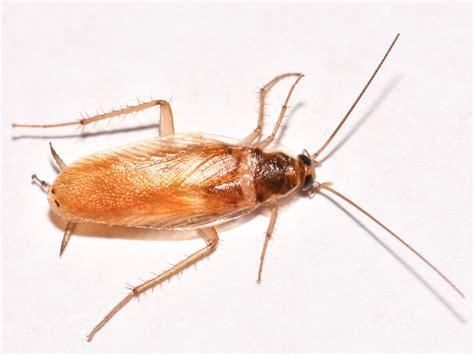cockroach: (36, 92, 335, 274)
